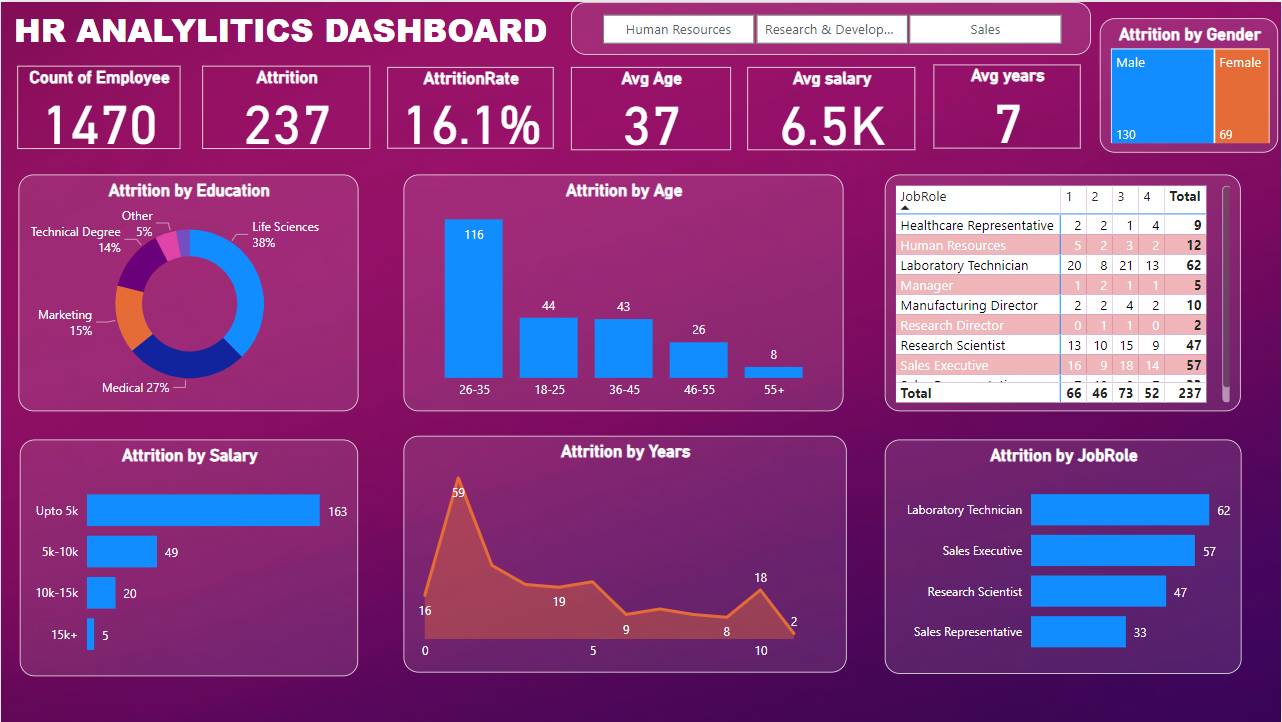

The dashboard page shown, as its layout file describes it:
{"tool":"powerbi","page":{"name":"Page 1","canvas":[1280,720],"ordinal":0},"visuals":[{"type":"card","title":"Count of Employee","fields":{"Values":["Count(HR_Analytics.EmpID)"]},"box":[16.7,63.3,163.3,83.3],"z":0},{"type":"card","title":"Avg Age ","fields":{"Values":["Avg(HR_Analytics.Age)"]},"box":[570,65,160,83.3],"z":1000},{"type":"card","title":"AttritionRate","fields":{"Values":["HR_Analytics.AttritionRate"]},"box":[386.7,65,166.7,81.7],"z":2000},{"type":"card","title":"Attrition","fields":{"Values":["Sum(HR_Analytics.AttritionCount)"]},"box":[201.7,63.3,168.3,83.3],"z":3000},{"type":"card","title":"Avg years","fields":{"Values":["Avg(HR_Analytics.YearsAtCompany)"]},"box":[932.9,62.9,147.1,84.3],"z":4000},{"type":"card","title":"Avg salary","fields":{"Values":["Avg(HR_Analytics.MonthlyIncome)"]},"box":[746.7,65,168.3,83.3],"z":5000},{"type":"donutChart","title":"Attrition by Education","fields":{"Y":["Sum(HR_Analytics.AttritionCount)"],"Category":["HR_Analytics.EducationField"]},"box":[17.1,172.9,340,237.1],"z":6000},{"type":"columnChart","title":"Attrition by Age","fields":{"Category":["HR_Analytics.AgeGroup"],"Y":["Sum(HR_Analytics.AttritionCount)"]},"box":[402.9,172.9,440,237.1],"z":7000},{"type":"pivotTable","fields":{"Rows":["HR_Analytics.JobRole"],"Columns":["HR_Analytics.JobSatisfaction"],"Values":["Sum(HR_Analytics.AttritionCount)"]},"box":[884.3,172.9,355.7,237.1],"z":8000},{"type":"clusteredBarChart","title":"Attrition by Salary","fields":{"Category":["HR_Analytics.SalarySlab"],"Y":["Sum(HR_Analytics.AttritionCount)"]},"box":[18.6,437.1,338.6,237.1],"z":9000},{"type":"clusteredBarChart","title":"Attrition by JobRole","fields":{"Y":["Sum(HR_Analytics.AttritionCount)"],"Category":["HR_Analytics.JobRole"]},"box":[884.3,437.1,357.1,234.3],"z":10000},{"type":"areaChart","title":"Attrition by Years","fields":{"Category":["HR_Analytics.YearsAtCompany"],"Y":["Sum(HR_Analytics.AttritionCount)"]},"box":[402.9,434.3,442.9,237.1],"z":11000},{"type":"treemap","title":"Attrition by Gender","fields":{"Group":["HR_Analytics.Gender"],"Values":["Sum(HR_Analytics.AttritionCount)"]},"box":[1098.6,15.7,178.6,134.3],"z":12000},{"type":"slicer","fields":{"Values":["HR_Analytics.Department"]},"box":[570,0,520,52.9],"z":12001},{"type":"textbox","box":[0,0,591.4,62.9],"z":12002}]}

Visuals, with their boxes in screenshot pixels (x1, y1, x2, y2), scaled from the page's 1280x720 canvas onto the 1282x722 screenshot:
"Count of Employee" card: box=[17, 63, 180, 147]
"Avg Age " card: box=[571, 65, 731, 149]
"AttritionRate" card: box=[387, 65, 554, 147]
"Attrition" card: box=[202, 63, 371, 147]
"Avg years" card: box=[934, 63, 1082, 148]
"Avg salary" card: box=[748, 65, 916, 149]
"Attrition by Education" donutChart: box=[17, 173, 358, 411]
"Attrition by Age" columnChart: box=[404, 173, 844, 411]
pivotTable - HR_Analytics.JobRole x HR_Analytics.JobSatisfaction: box=[886, 173, 1242, 411]
"Attrition by Salary" clusteredBarChart: box=[19, 438, 358, 676]
"Attrition by JobRole" clusteredBarChart: box=[886, 438, 1243, 673]
"Attrition by Years" areaChart: box=[404, 436, 847, 673]
"Attrition by Gender" treemap: box=[1100, 16, 1279, 150]
slicer - HR_Analytics.Department: box=[571, 0, 1092, 53]
textbox: box=[0, 0, 592, 63]
